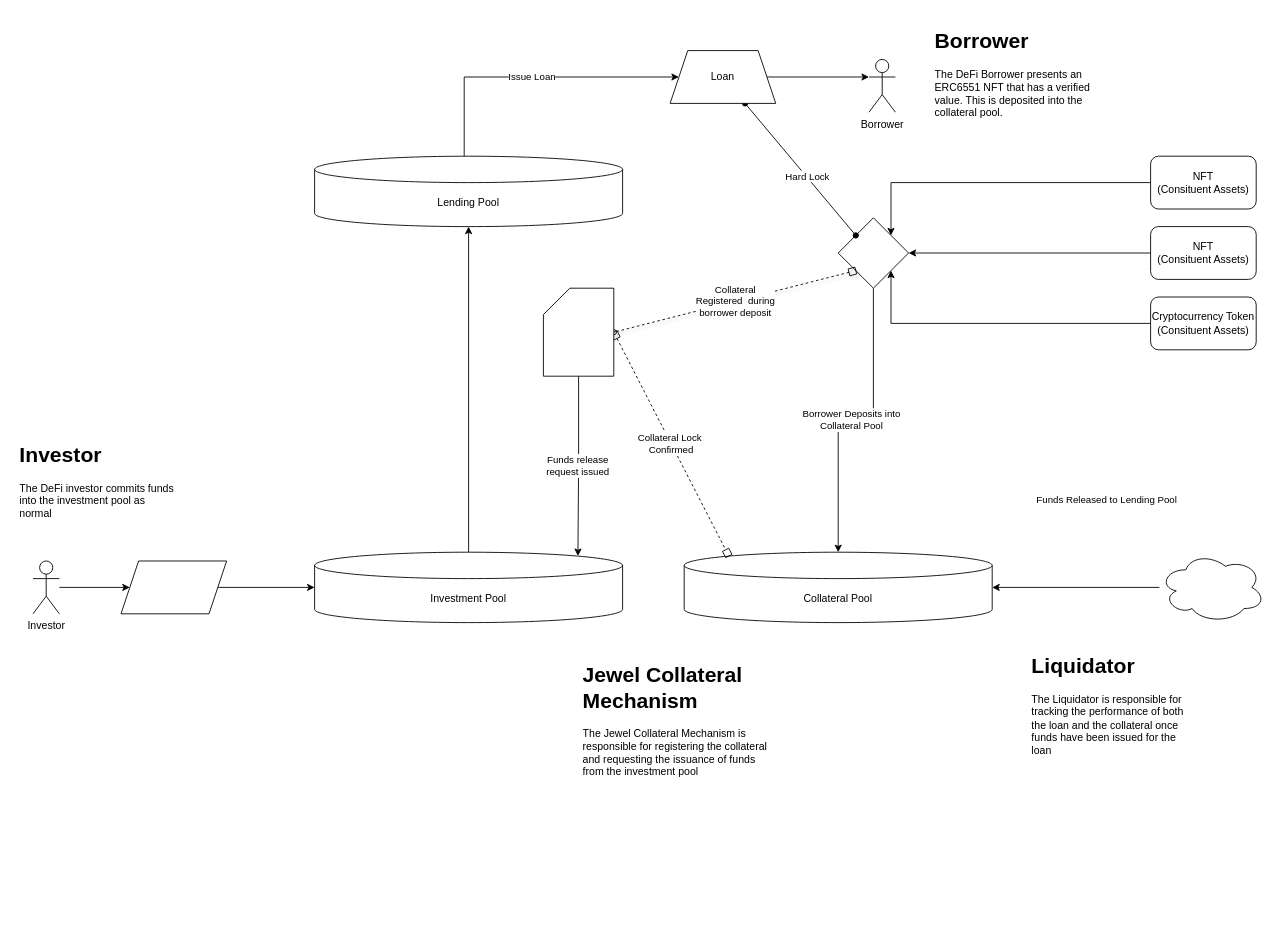
Some shapes in this 1280 by 936 pixel diagram are drawn without their labels. The shapes that lost their labels are listed below. From the top down, each one's centre as x and y in pixels, then its label:
(873,252): ERC6551
(578,331): Jewel Collateral Mechanism
(173,587): Investment
(1212,587): Liquidator
